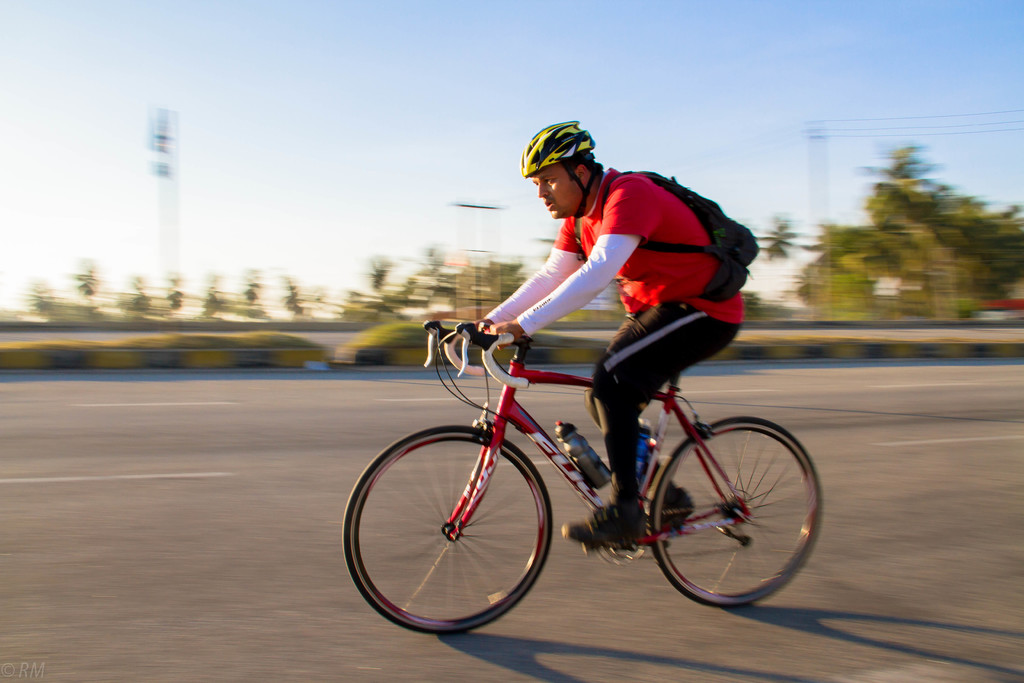Bike: (341, 322, 821, 628)
